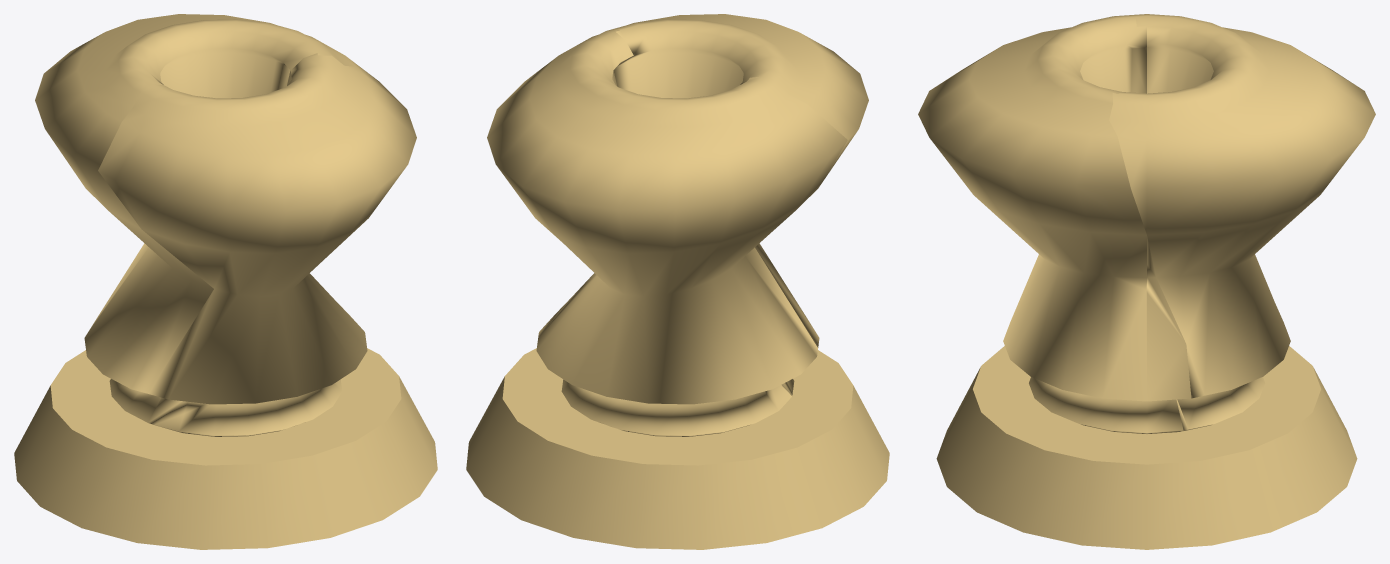
Rendered from Pottery 6_broken.fbx.
3 views of the same model, side by side, from view 1: azimuth 30°, elevation 25°; view 2: azimuth 150°, elevation 25°; view 3: azimuth 270°, elevation 25° (orthographic).
Visible parts, largest first — view 1: pTorus1, pCylinder1, pTorus1.001; view 2: pTorus1.001, pCylinder1, pTorus1; view 3: pTorus1, pTorus1.001, pCylinder1.
Part boxes in pixels (bbox=[...]): pTorus1: bbox=[98, 53, 416, 436]; pCylinder1: bbox=[14, 348, 437, 549]; pTorus1.001: bbox=[35, 14, 384, 422]; pTorus1.001: bbox=[487, 30, 847, 436]; pCylinder1: bbox=[466, 348, 889, 549]; pTorus1: bbox=[543, 14, 868, 395]; pTorus1: bbox=[918, 15, 1191, 433]; pTorus1.001: bbox=[1109, 14, 1375, 431]; pCylinder1: bbox=[936, 346, 1357, 549].
Size of the model in its own units: 13315 by 13702 by 14120.
